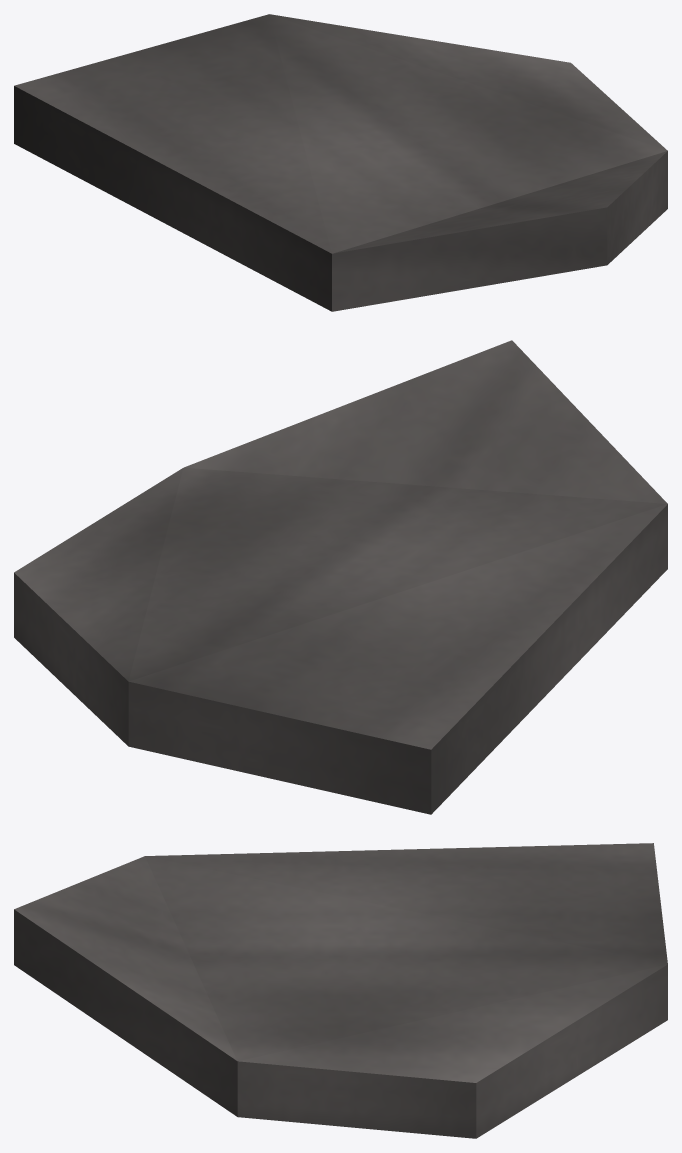
File: crashed_pod_shard1_v1.fbx
3 views of the same model, one above another, from view 1: azimuth 30°, elevation 25°; view 2: azimuth 150°, elevation 25°; view 3: azimuth 270°, elevation 25° (orthographic). The views are drawn at different scales.
Visible parts, largest first — view 1: crashed_pod_shard1_v1; view 2: crashed_pod_shard1_v1; view 3: crashed_pod_shard1_v1.
Part boxes in pixels (x1,y1,x2,y2): crashed_pod_shard1_v1: (14,14,667,311); crashed_pod_shard1_v1: (14,340,667,814); crashed_pod_shard1_v1: (14,843,667,1138).
Bounding box in the file's own units: 25.15 × 7.2 × 31.88.
1 material, 1 textured.
